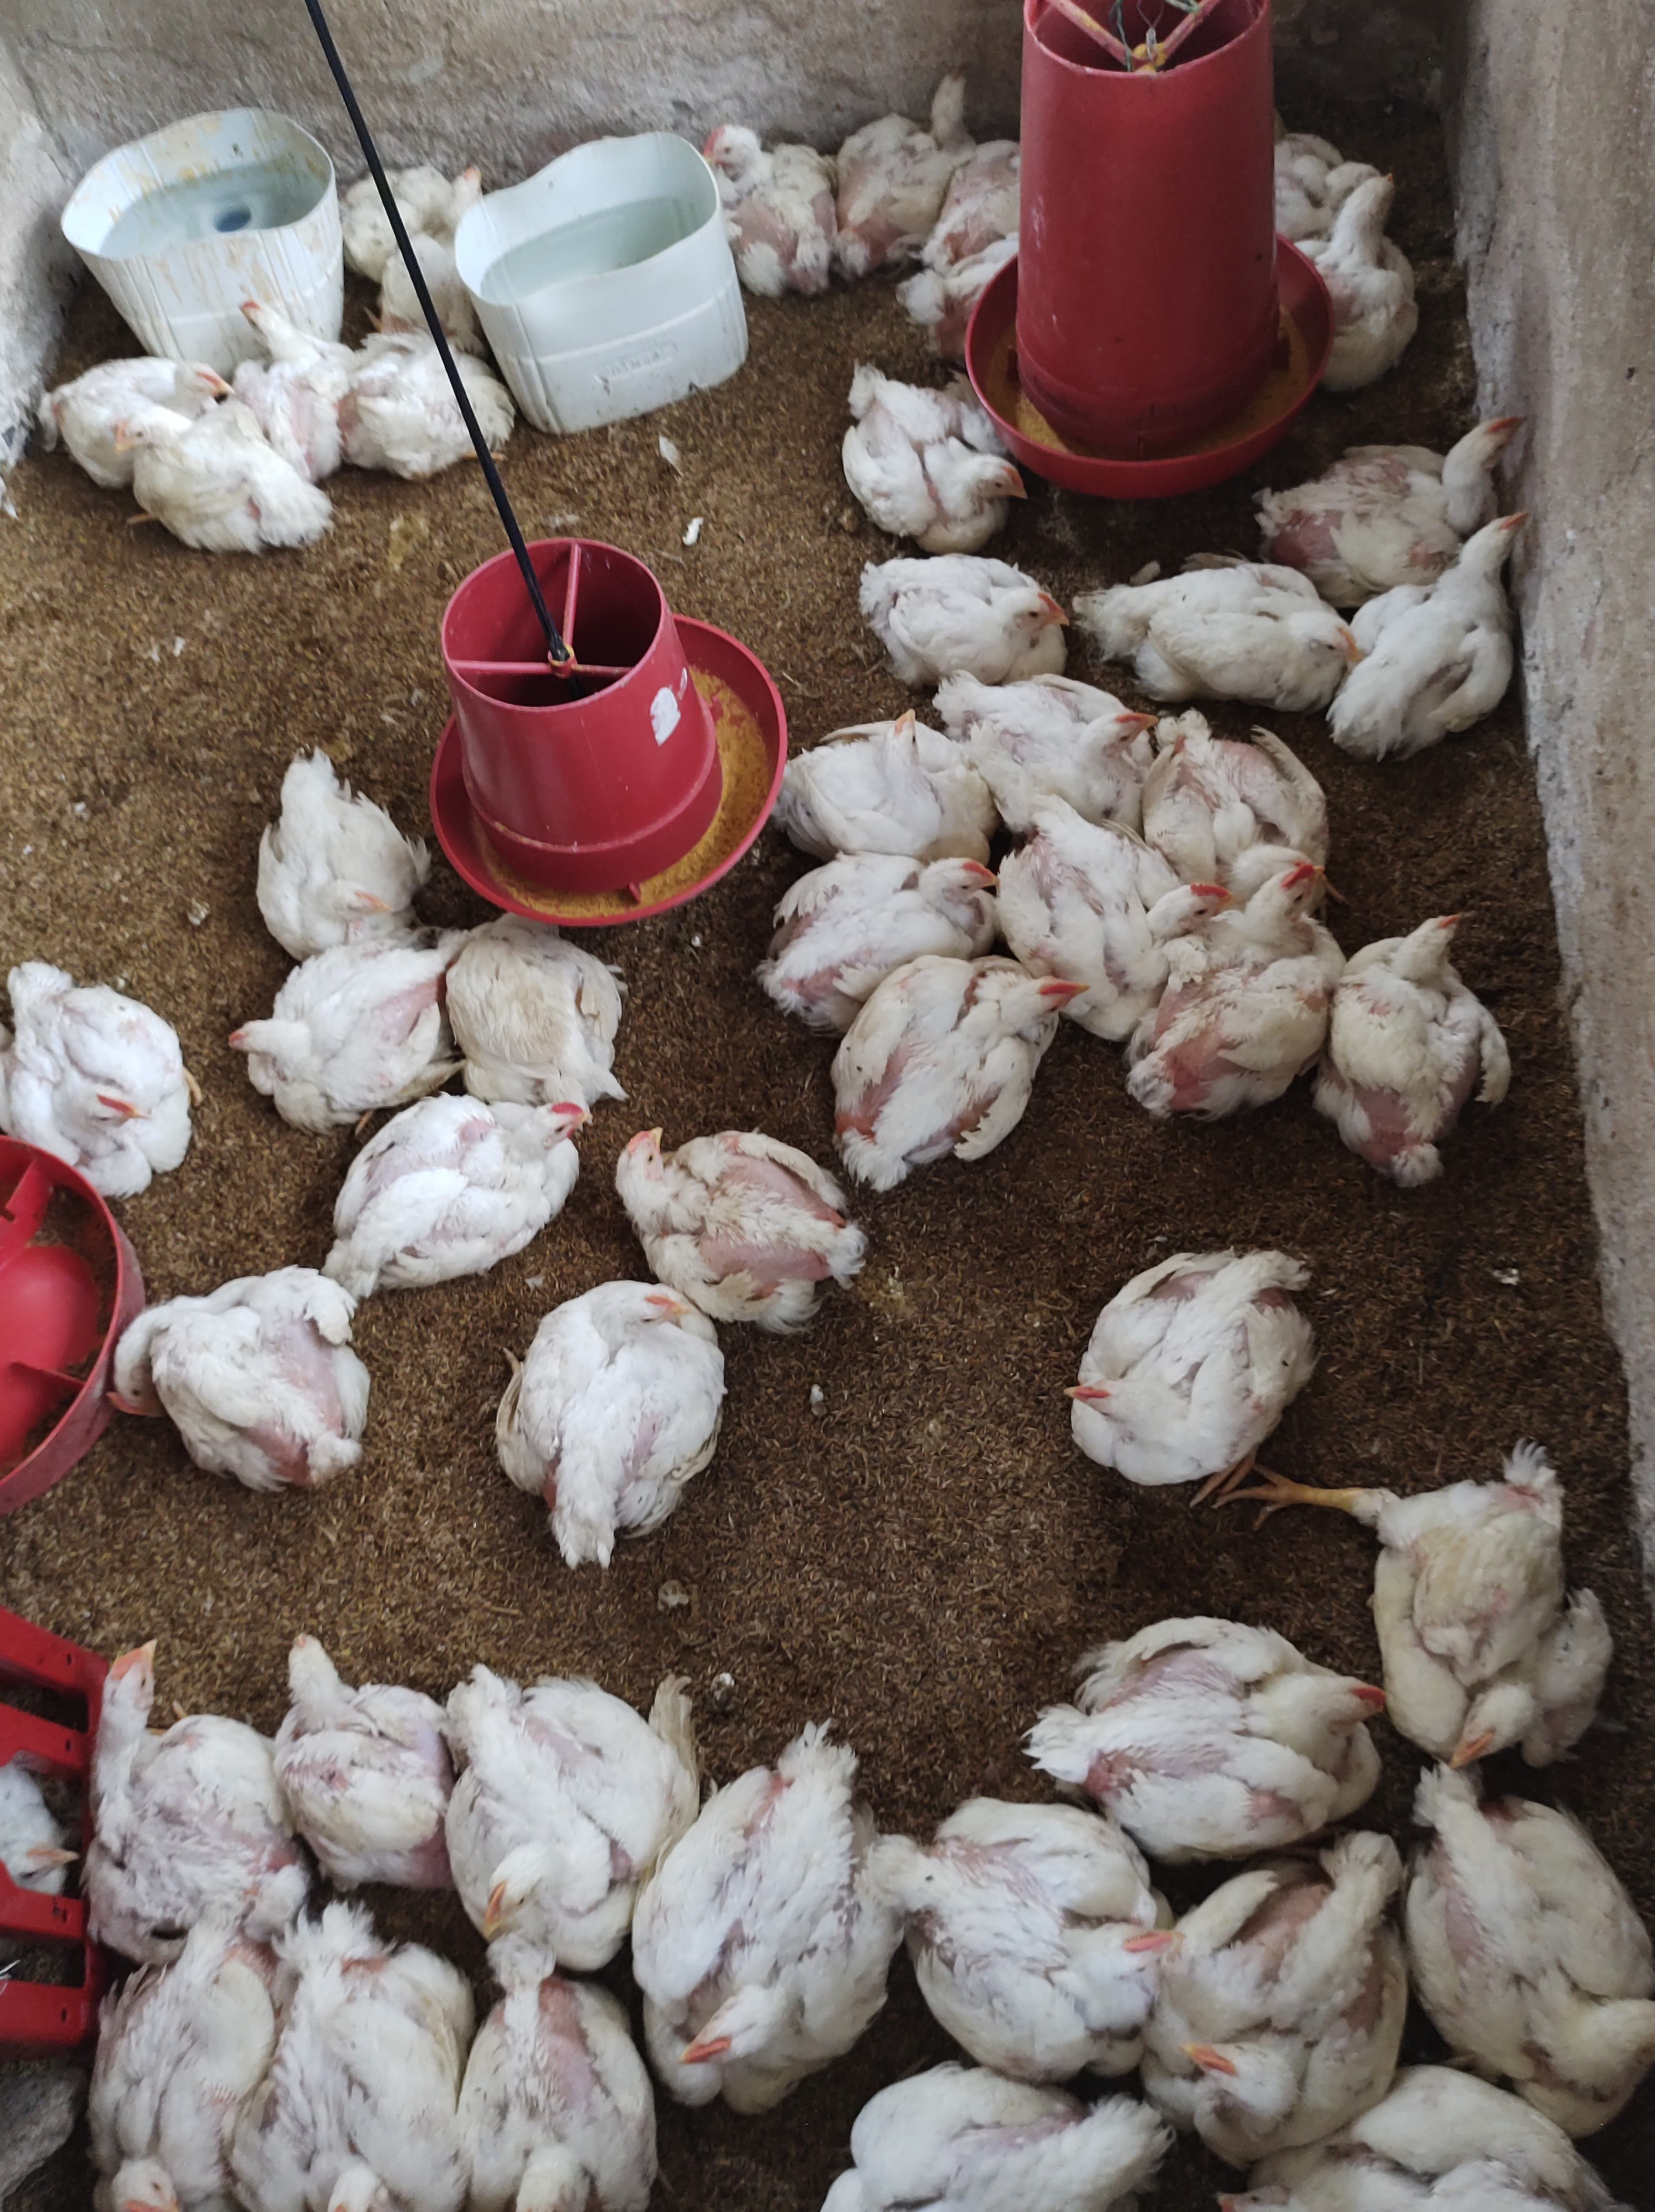Pollos: (643, 1751, 909, 2115), (1342, 1445, 1632, 1770), (1415, 1722, 1655, 2115), (424, 1645, 697, 1974), (1050, 1602, 1399, 1849), (264, 1862, 502, 2207), (890, 1795, 1172, 2066), (779, 2028, 1177, 2212), (494, 1287, 742, 1572), (71, 1640, 318, 1922), (1066, 1249, 1328, 1513), (103, 1271, 396, 1494), (1166, 1849, 1375, 2144), (826, 960, 1085, 1184), (322, 1068, 584, 1287), (617, 1113, 871, 1336), (1333, 503, 1537, 769), (1226, 2082, 1627, 2212), (1120, 866, 1326, 1118), (259, 1626, 445, 1897), (1266, 388, 1532, 570), (1328, 899, 1509, 1163), (1161, 687, 1379, 897), (2, 970, 174, 1233), (96, 1935, 264, 2203), (1010, 800, 1212, 1014), (235, 941, 480, 1115), (219, 741, 422, 944), (770, 838, 1003, 1014), (1092, 550, 1347, 708), (826, 362, 1036, 550), (445, 911, 622, 1109), (777, 699, 996, 856), (473, 1998, 633, 2212), (94, 410, 323, 558), (947, 675, 1173, 821), (45, 315, 242, 480), (833, 50, 982, 259), (681, 103, 829, 313), (861, 548, 1073, 689), (1293, 167, 1432, 381), (916, 117, 1047, 330), (346, 337, 542, 478), (377, 158, 528, 339), (195, 268, 346, 442), (0, 1765, 115, 1902)
